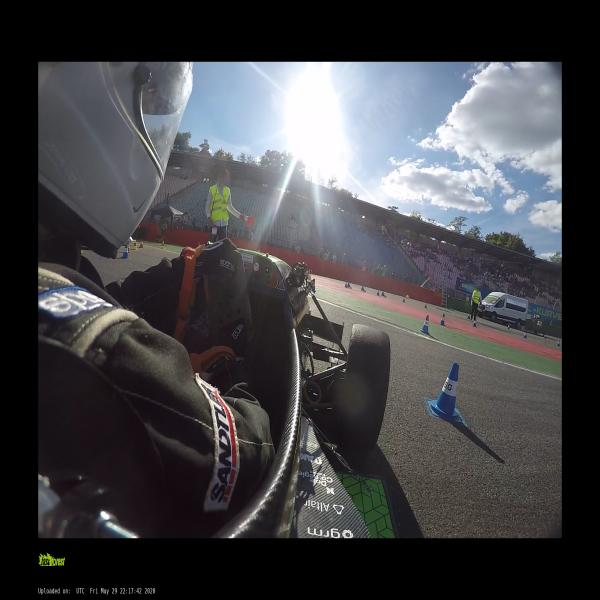blue_cone: (432, 362, 464, 419), (420, 315, 430, 335), (122, 244, 129, 258), (439, 314, 446, 326), (312, 279, 316, 293), (472, 318, 477, 327), (382, 291, 386, 298), (361, 287, 366, 292), (344, 280, 347, 288), (556, 340, 560, 346), (402, 296, 406, 302), (424, 302, 427, 309), (348, 283, 352, 288), (467, 313, 470, 319), (524, 332, 526, 338), (544, 333, 546, 339), (377, 290, 379, 296), (508, 324, 510, 329)
orange_cone: (140, 240, 143, 248), (128, 243, 130, 252)
yellow_cone: (132, 240, 137, 250), (160, 241, 164, 249), (406, 294, 409, 298)
